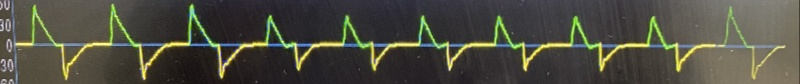normal_flow: (2, 5, 796, 78)
